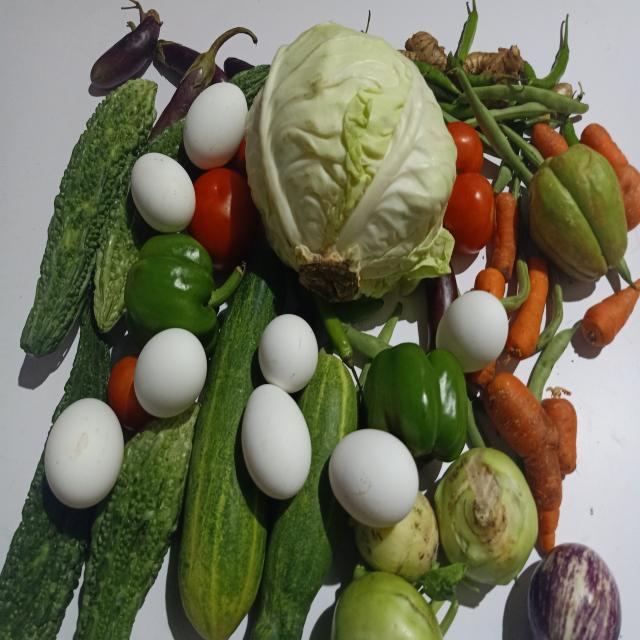Beans: (461, 75, 537, 184), (479, 79, 586, 120), (529, 323, 571, 397), (539, 278, 566, 351), (505, 247, 531, 308), (495, 103, 547, 129)
Bitter Gourd: (5, 75, 162, 375), (68, 413, 194, 640)
Brinjal: (152, 18, 258, 138), (86, 5, 166, 89), (153, 38, 228, 87)
Cabbage: (246, 23, 459, 297)
Capsicum: (125, 233, 246, 341), (365, 344, 468, 465)
Carrot: (482, 375, 580, 554), (584, 119, 640, 238), (580, 277, 640, 352), (509, 267, 547, 355), (484, 192, 518, 272)
Chayote: (530, 142, 626, 284)
Cucumber: (178, 263, 279, 639), (248, 348, 359, 638)
Egg: (43, 398, 127, 506), (331, 426, 418, 525), (243, 387, 312, 503), (136, 331, 207, 421), (435, 292, 509, 370), (182, 79, 248, 166), (258, 311, 321, 392), (134, 154, 198, 229)
Eggplant: (528, 541, 625, 640)
Ginger: (470, 44, 527, 80), (399, 28, 449, 69)
Green Chilly: (528, 13, 571, 88), (322, 311, 363, 387), (458, 0, 482, 64), (417, 59, 459, 93)
Tomato: (192, 166, 253, 259), (449, 174, 495, 257), (451, 118, 486, 178)
Turnip: (433, 446, 539, 587), (334, 570, 447, 640)
